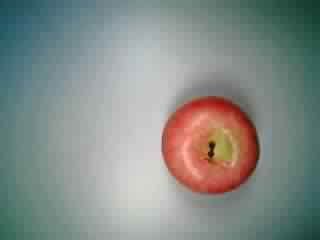apple: (158, 95, 258, 194)
